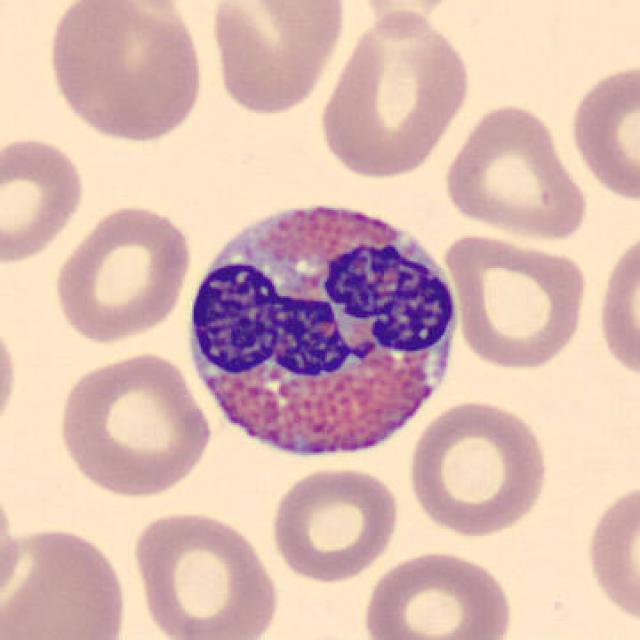Eosinophil: (178, 182, 468, 476)
RBC: (314, 7, 474, 182), (51, 349, 217, 499), (41, 1, 208, 144), (439, 99, 592, 243), (403, 396, 553, 540), (441, 229, 592, 372), (50, 201, 194, 346), (128, 506, 283, 640), (204, 0, 350, 118), (266, 464, 404, 585), (0, 522, 132, 640), (359, 546, 517, 640), (0, 132, 89, 268), (565, 58, 640, 206), (582, 476, 638, 628), (594, 222, 638, 388), (348, 0, 469, 35), (0, 474, 25, 617), (0, 307, 23, 448)
